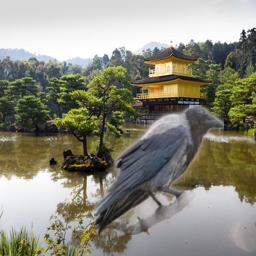Crow: (94, 105, 224, 235)
